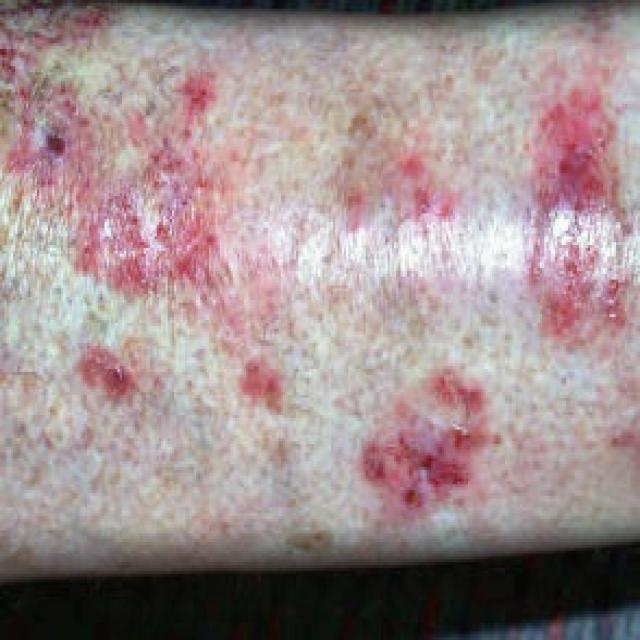Atopic-Dermatitis: (14, 25, 631, 537)
